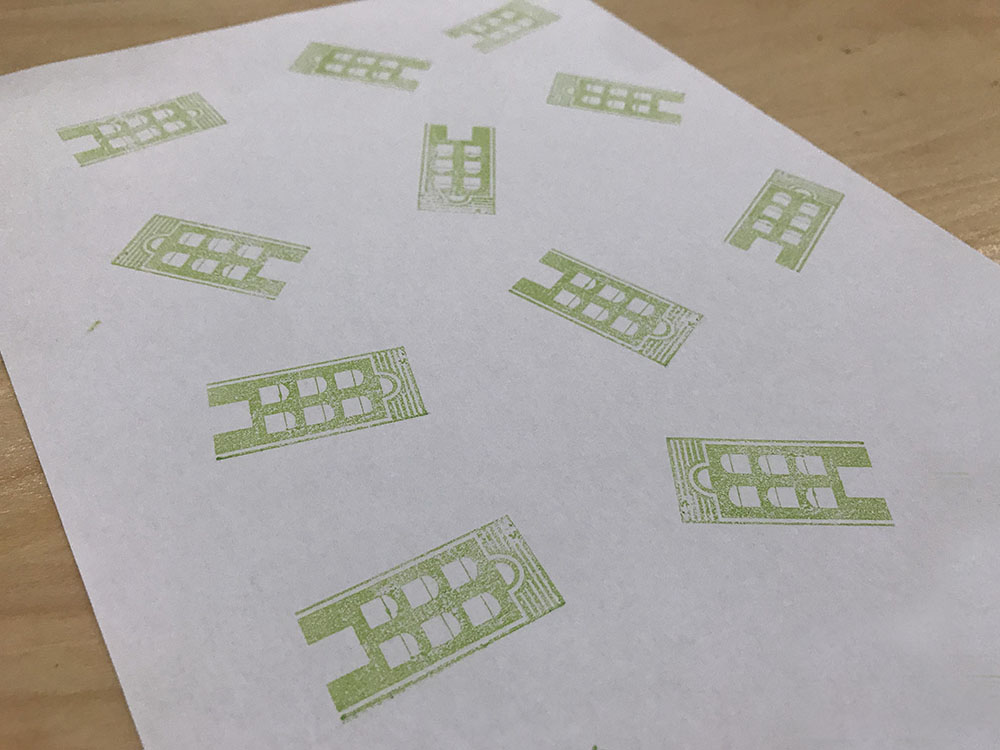build: (270, 510, 587, 737), (180, 333, 458, 476), (638, 414, 922, 552), (490, 240, 719, 377), (103, 196, 323, 313), (716, 155, 863, 295), (39, 79, 248, 173), (529, 56, 703, 143), (275, 31, 442, 113), (405, 116, 515, 230), (441, 1, 563, 60)
